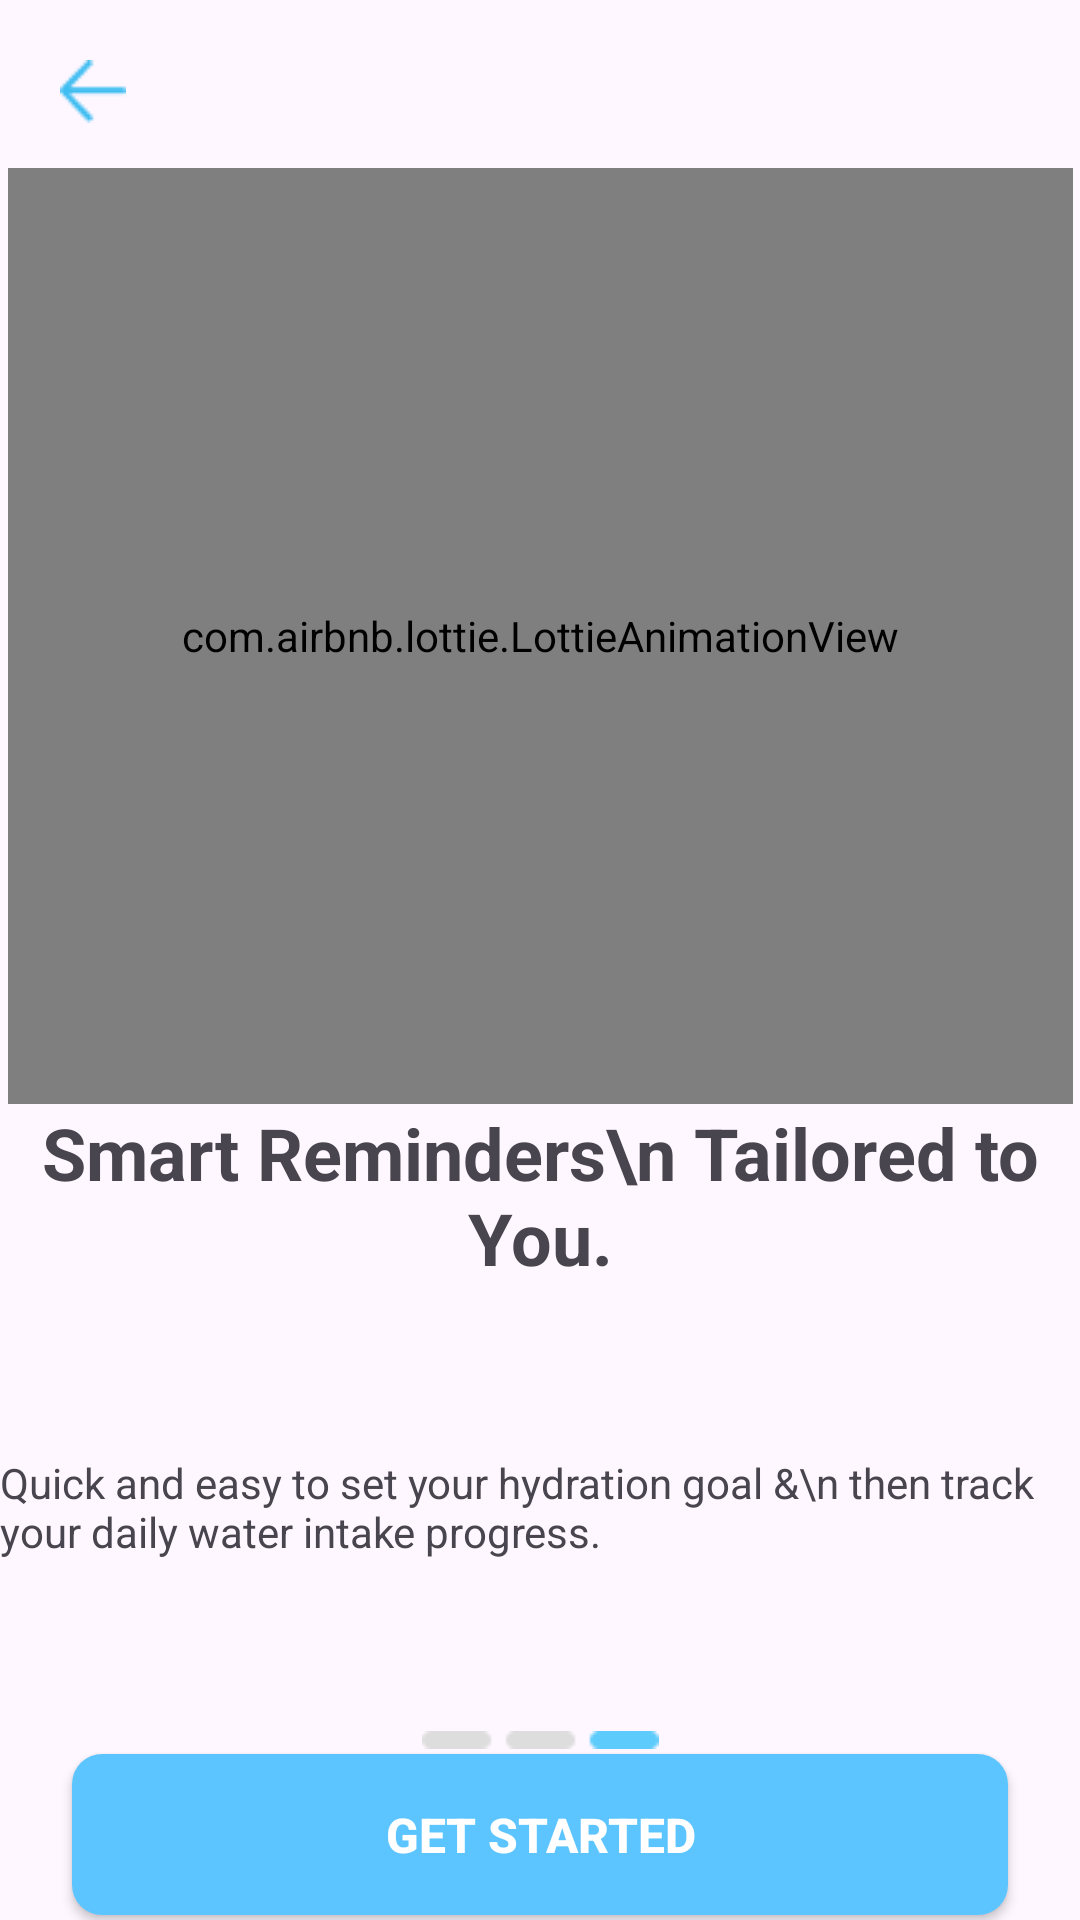

Named icons in this screenshot (1080w x 1920h) and their bounding boxes, BBox(x1, y1, x2, y2):
back: BBox(60, 60, 126, 123)
